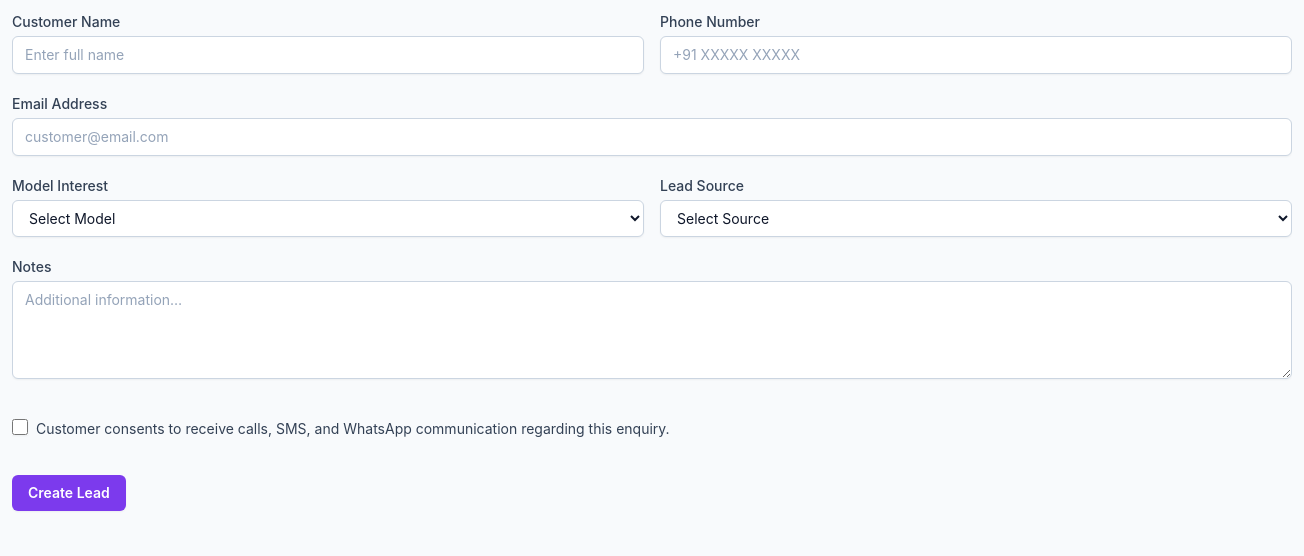
NewLeadForm (simplified) › maps a server 400 field error onto the matching form field
Type "Asha Rao" into the field labelled "Customer Name".
click(328, 55); type("Asha Rao")  # box top-left (12, 36), bottom-right (644, 74)
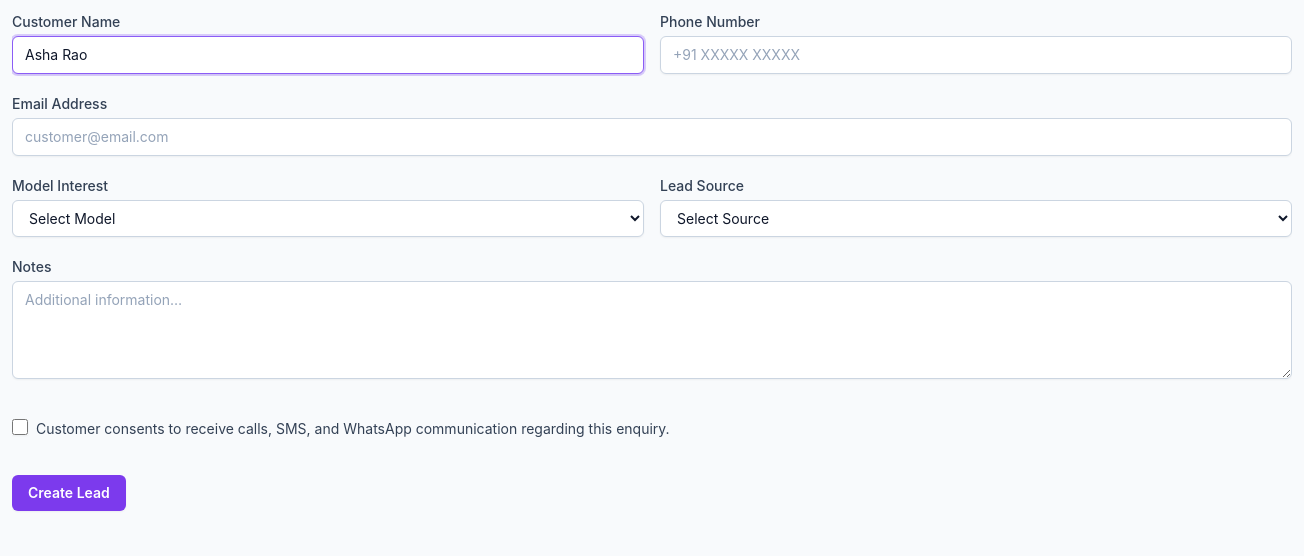
Type "9876543210" into the field labelled "Phone Number".
click(976, 55); type("9876543210")  # box top-left (660, 36), bottom-right (1292, 74)
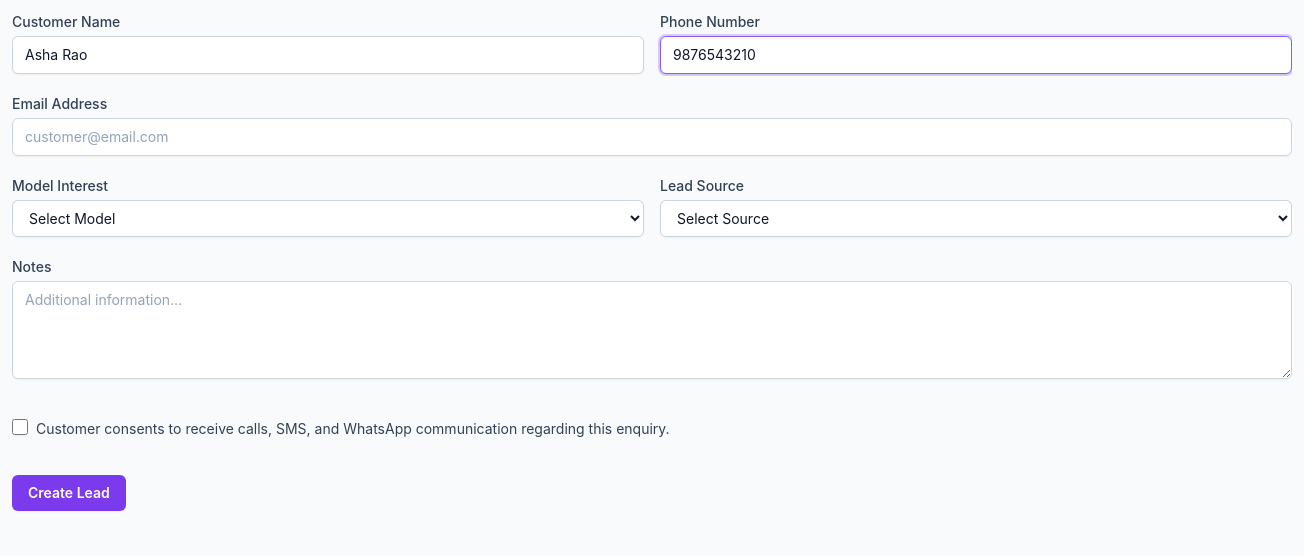
Select "Compact Hatchback LX" in the dropdown labelled "Model Interest" at (328, 218), box top-left (12, 200), bottom-right (644, 237)
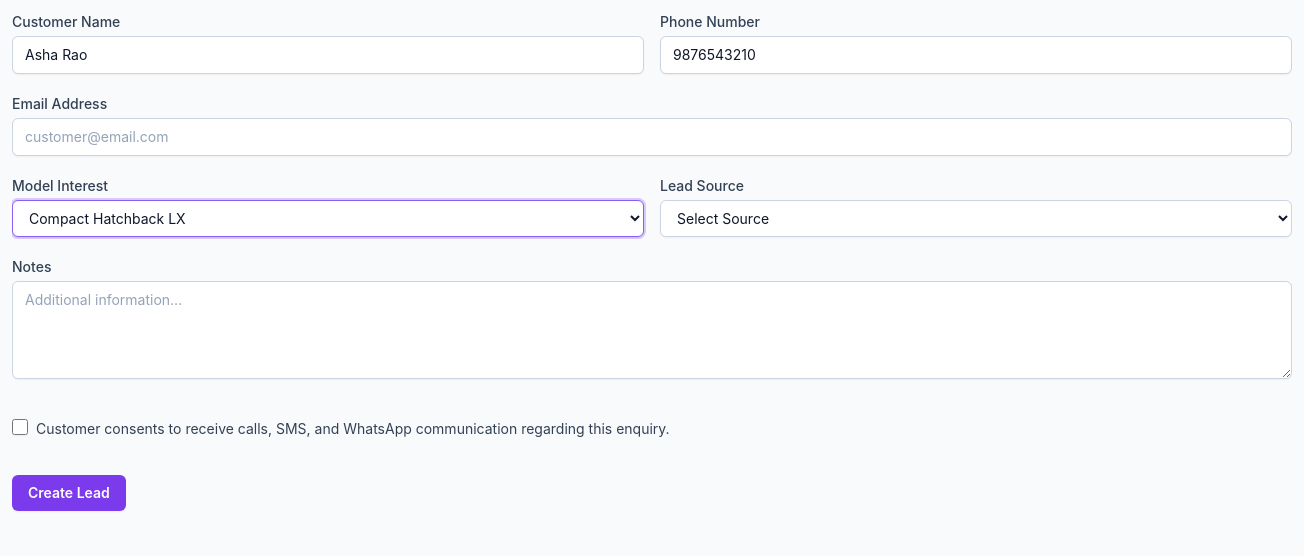
Select "Walk-in" in the dropdown labelled "Lead Source" at (976, 218), box top-left (660, 200), bottom-right (1292, 237)
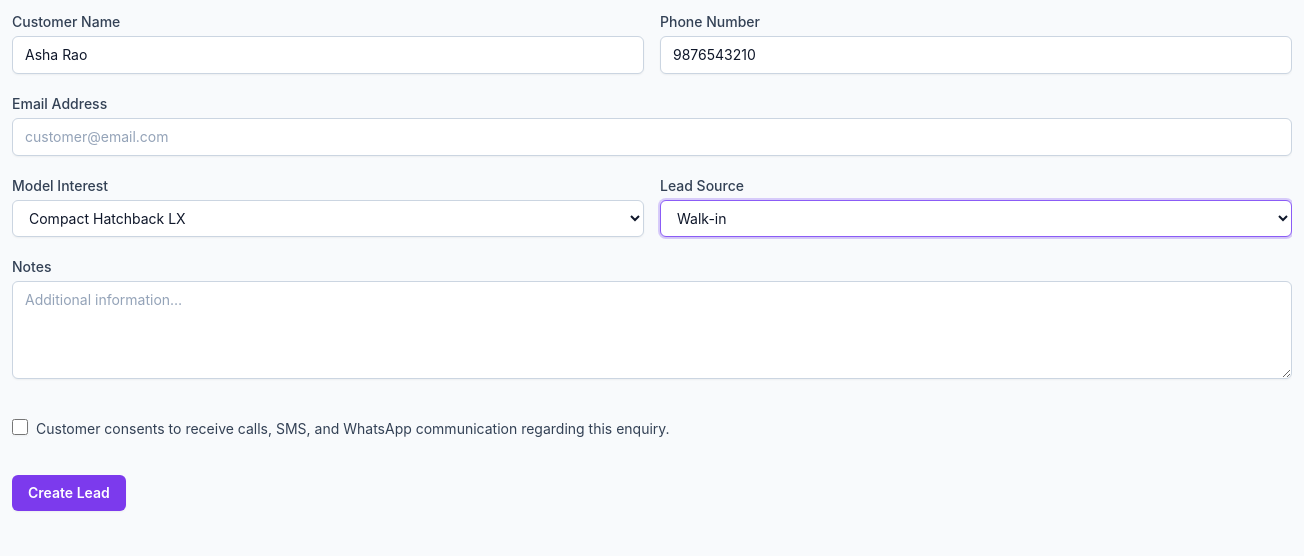
Click the checkbox labelled "Customer consents".
click(20, 427)  # box top-left (12, 419), bottom-right (28, 435)
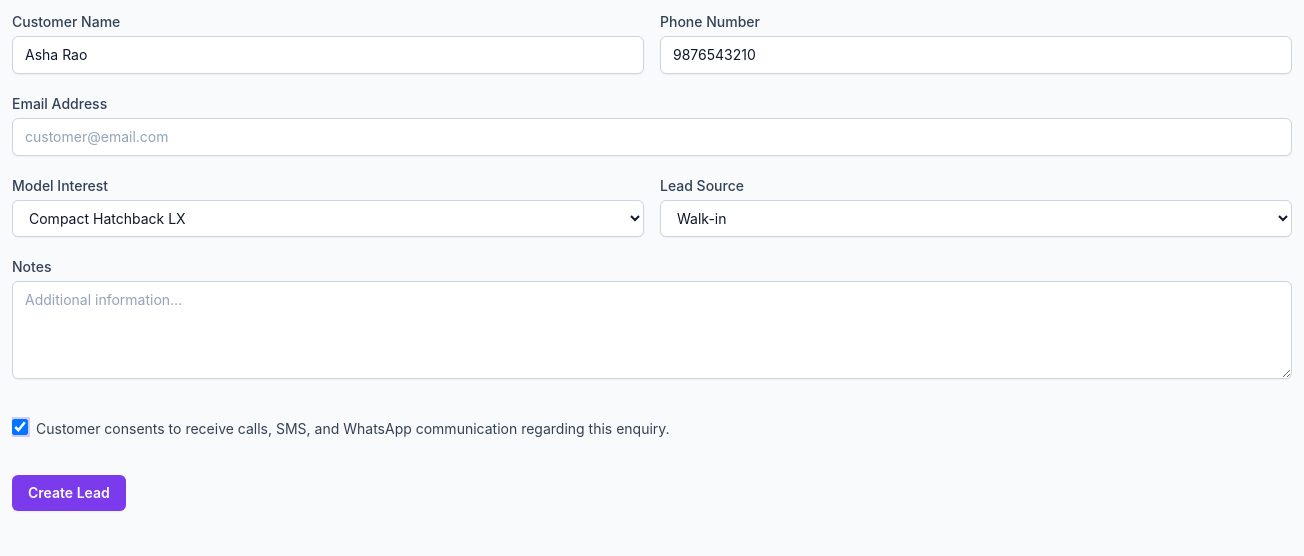
Click the button "Create Lead".
click(69, 493)  # box top-left (12, 475), bottom-right (126, 511)
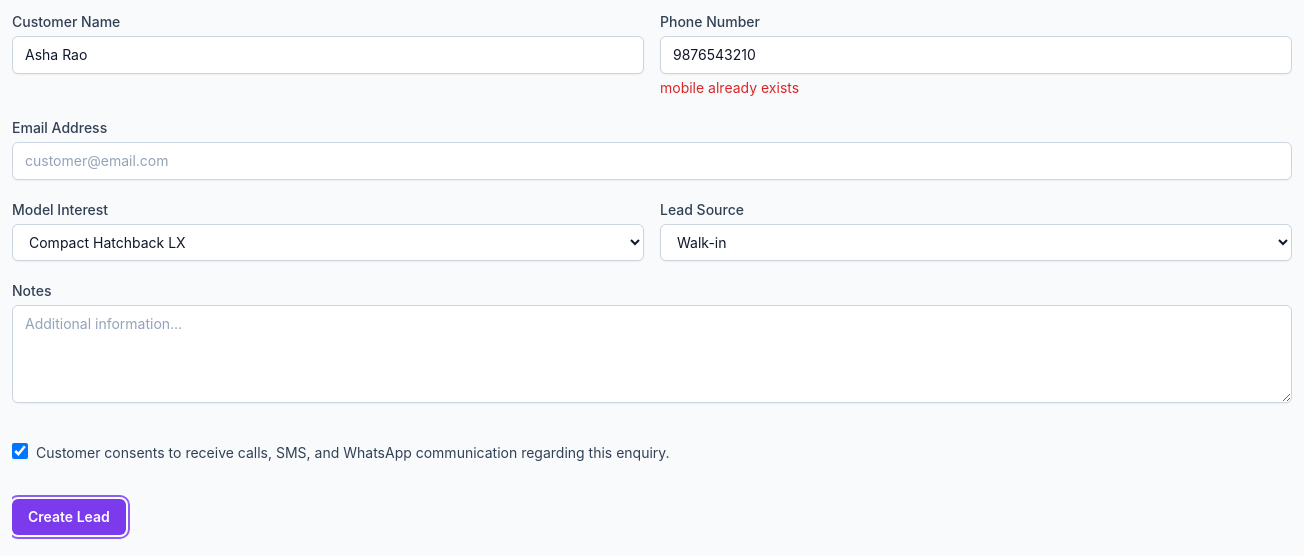
Now the text "mobile already exists" is shown, box top-left (660, 79), bottom-right (799, 96)
